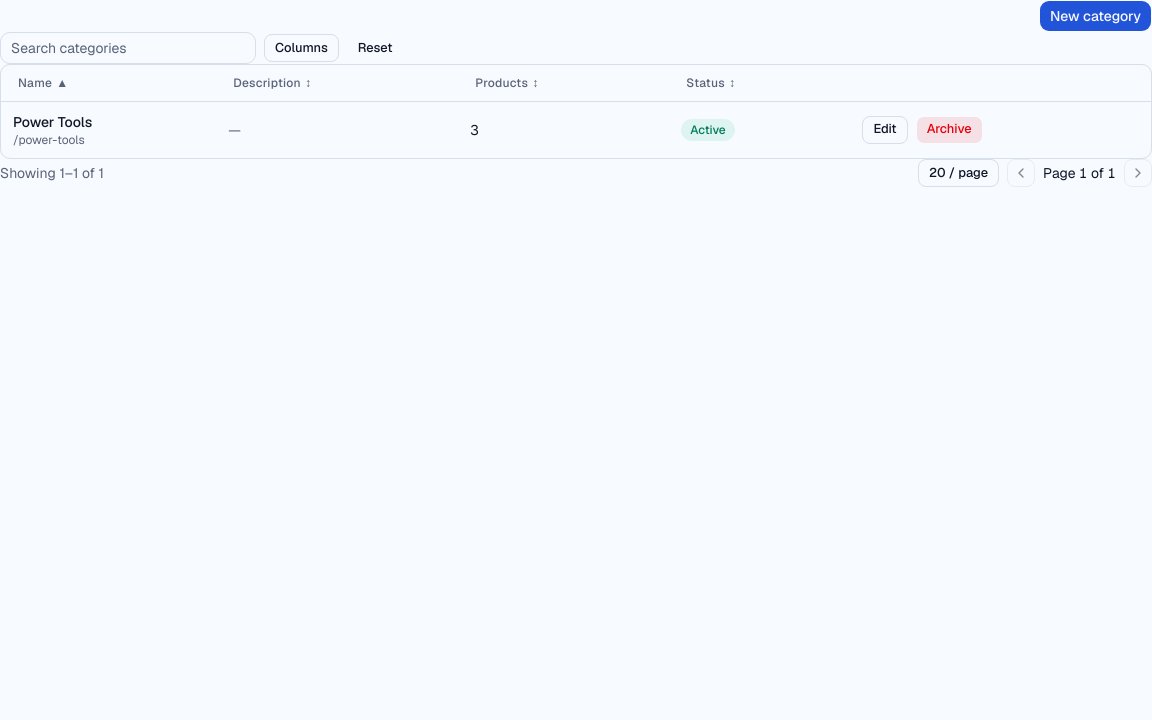
Test case: role-aware actions › surfaces conflicts inline without closing the dialog
Click the button "Archive". click: x=949, y=130
box: top-left (916, 116), bottom-right (983, 144)
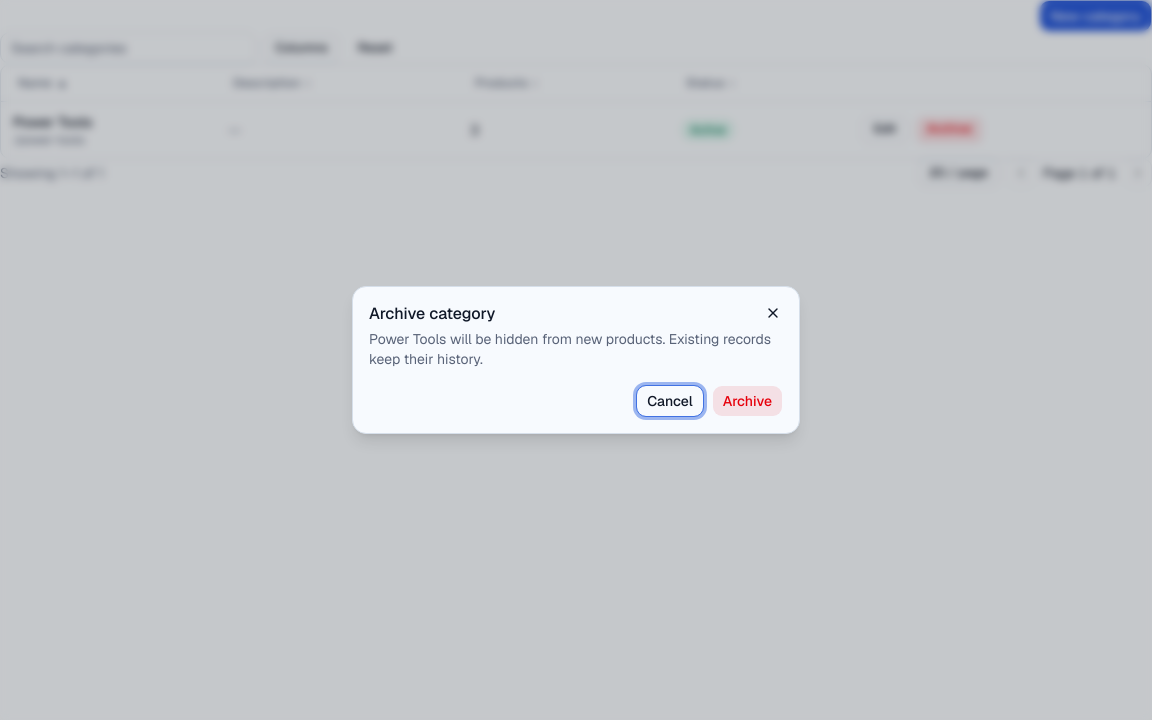
Click the button "Archive". click: x=747, y=401
box: top-left (712, 385), bottom-right (783, 417)
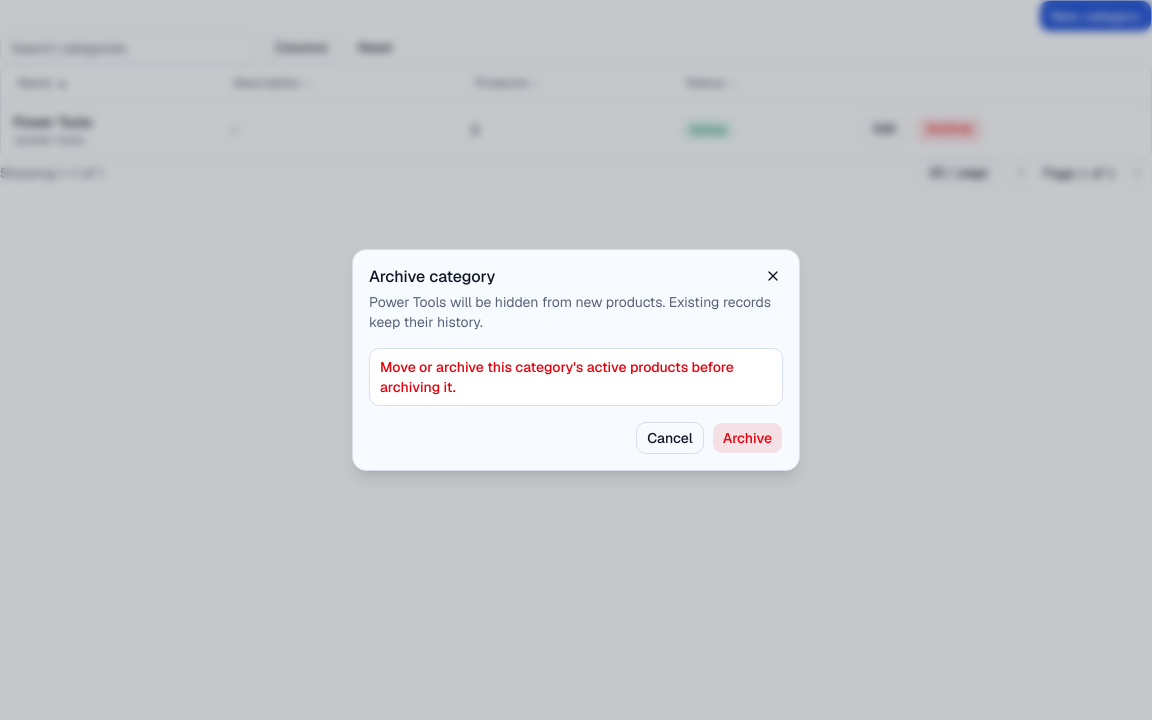
Expected: the dialog is shown, top-left (352, 249), bottom-right (800, 471)
Expected: the message shows "active products", top-left (380, 358), bottom-right (734, 396)
